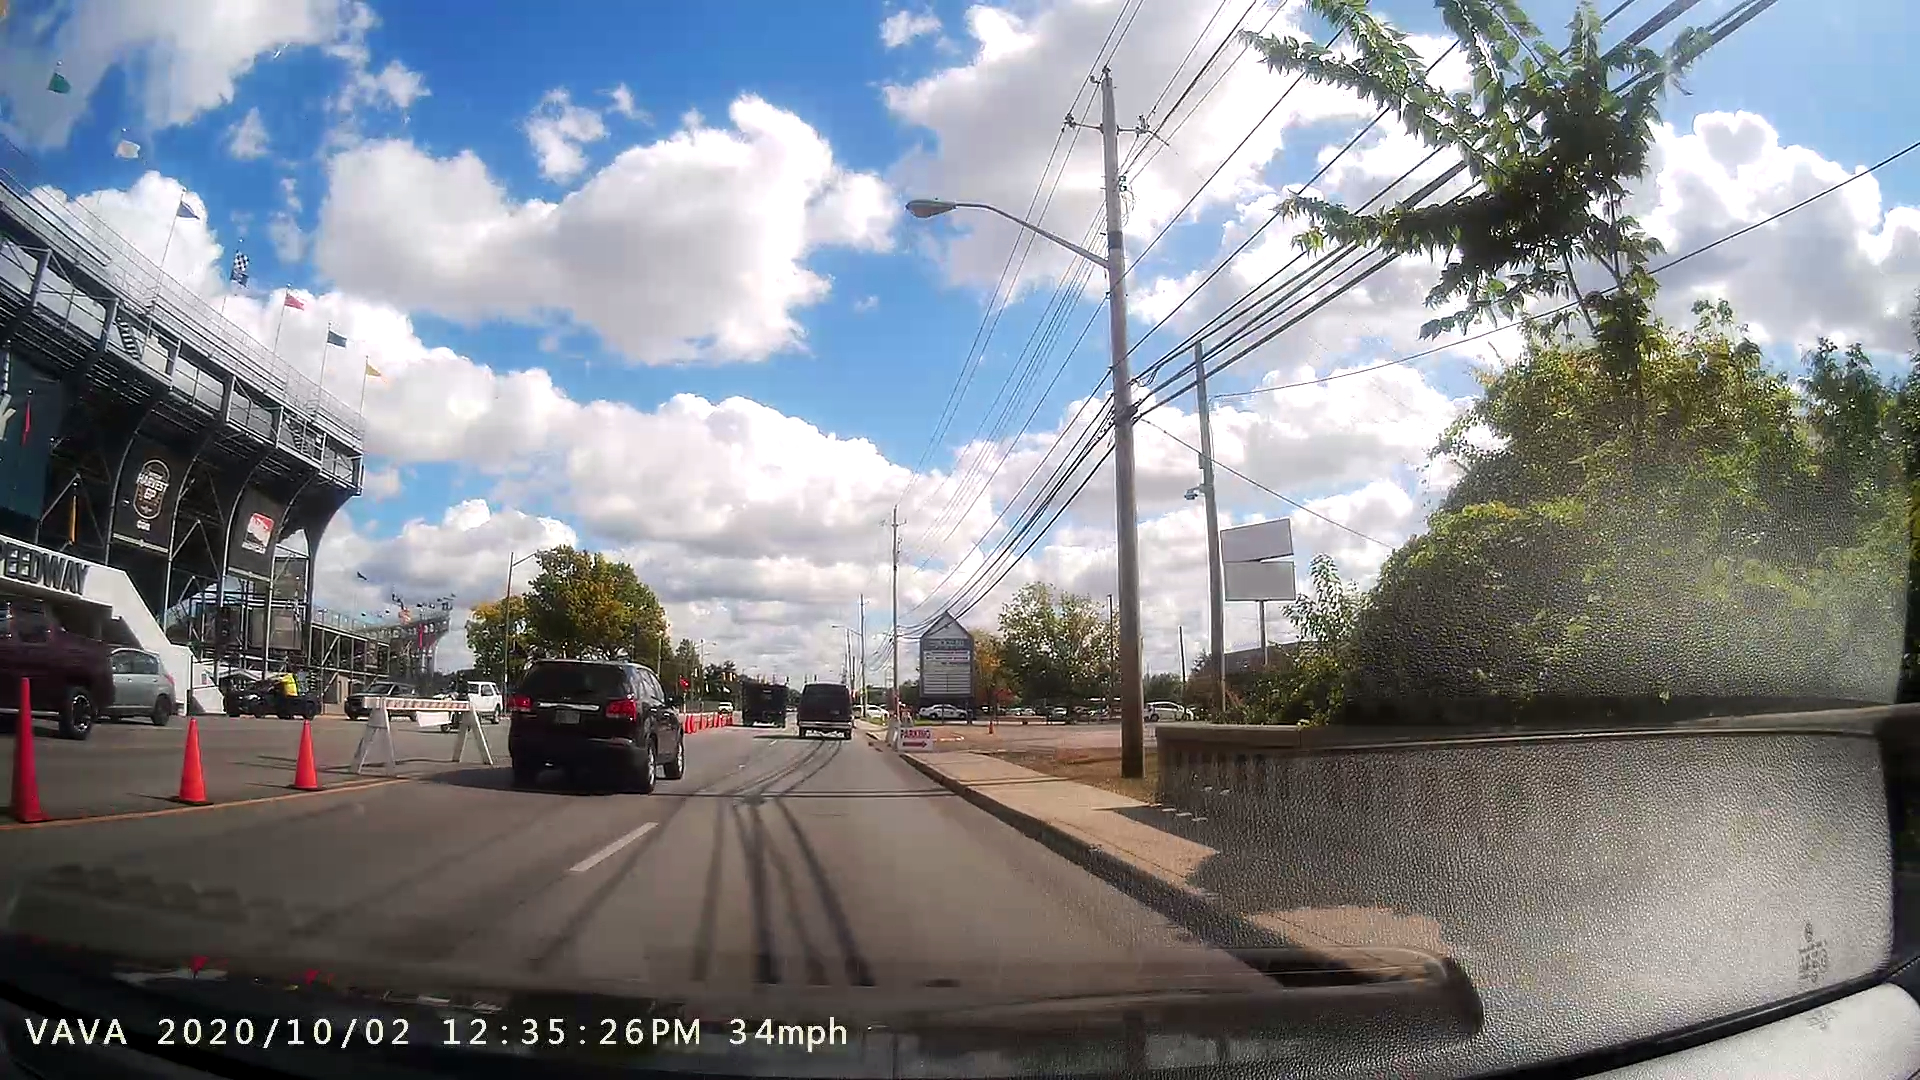const_barricade: (355, 680, 497, 782)
const_cone: (0, 665, 47, 841), (150, 713, 225, 818), (281, 716, 335, 796)
